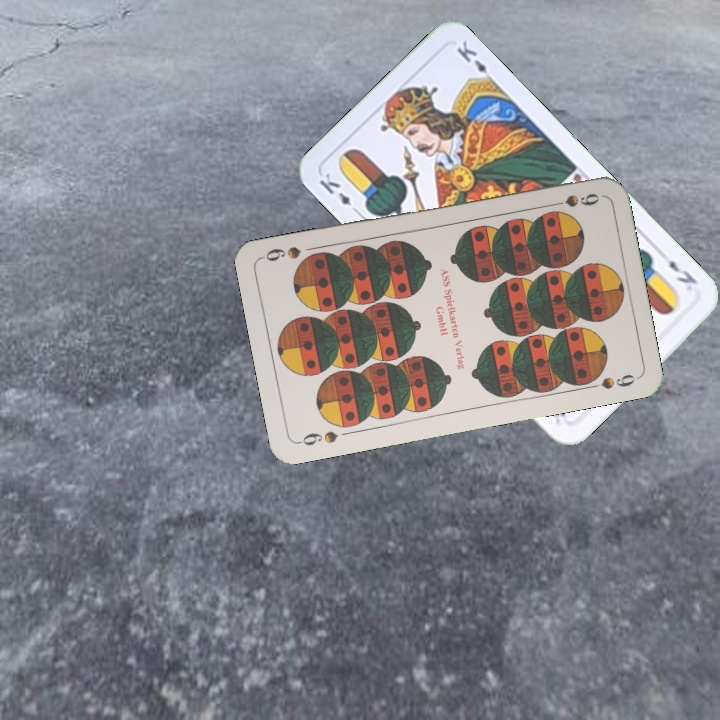EK: (315, 168, 364, 218), (664, 255, 700, 287)
S9: (544, 189, 602, 210), (294, 427, 341, 448)
